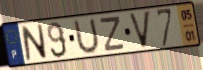7: (156, 7, 175, 49)
9: (46, 21, 68, 60)
N: (20, 23, 49, 63)
U: (73, 16, 101, 57)
V: (127, 10, 152, 51)
Z: (99, 14, 127, 53)
